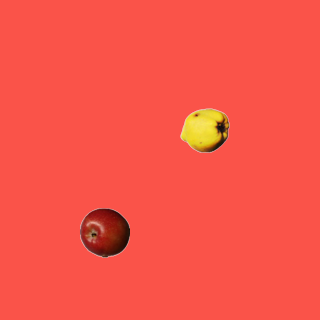Apple Braeburn: (79, 207, 129, 257)
Quince: (179, 105, 229, 155)
